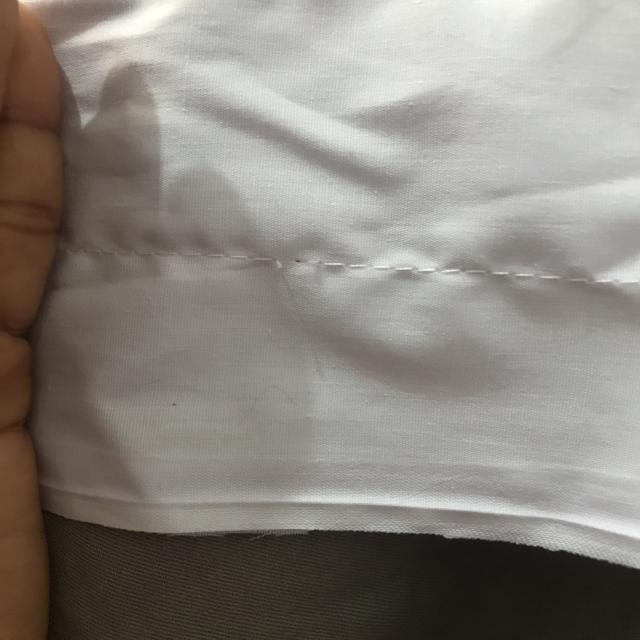broken: (267, 240, 336, 286)
good: (404, 252, 586, 292)
